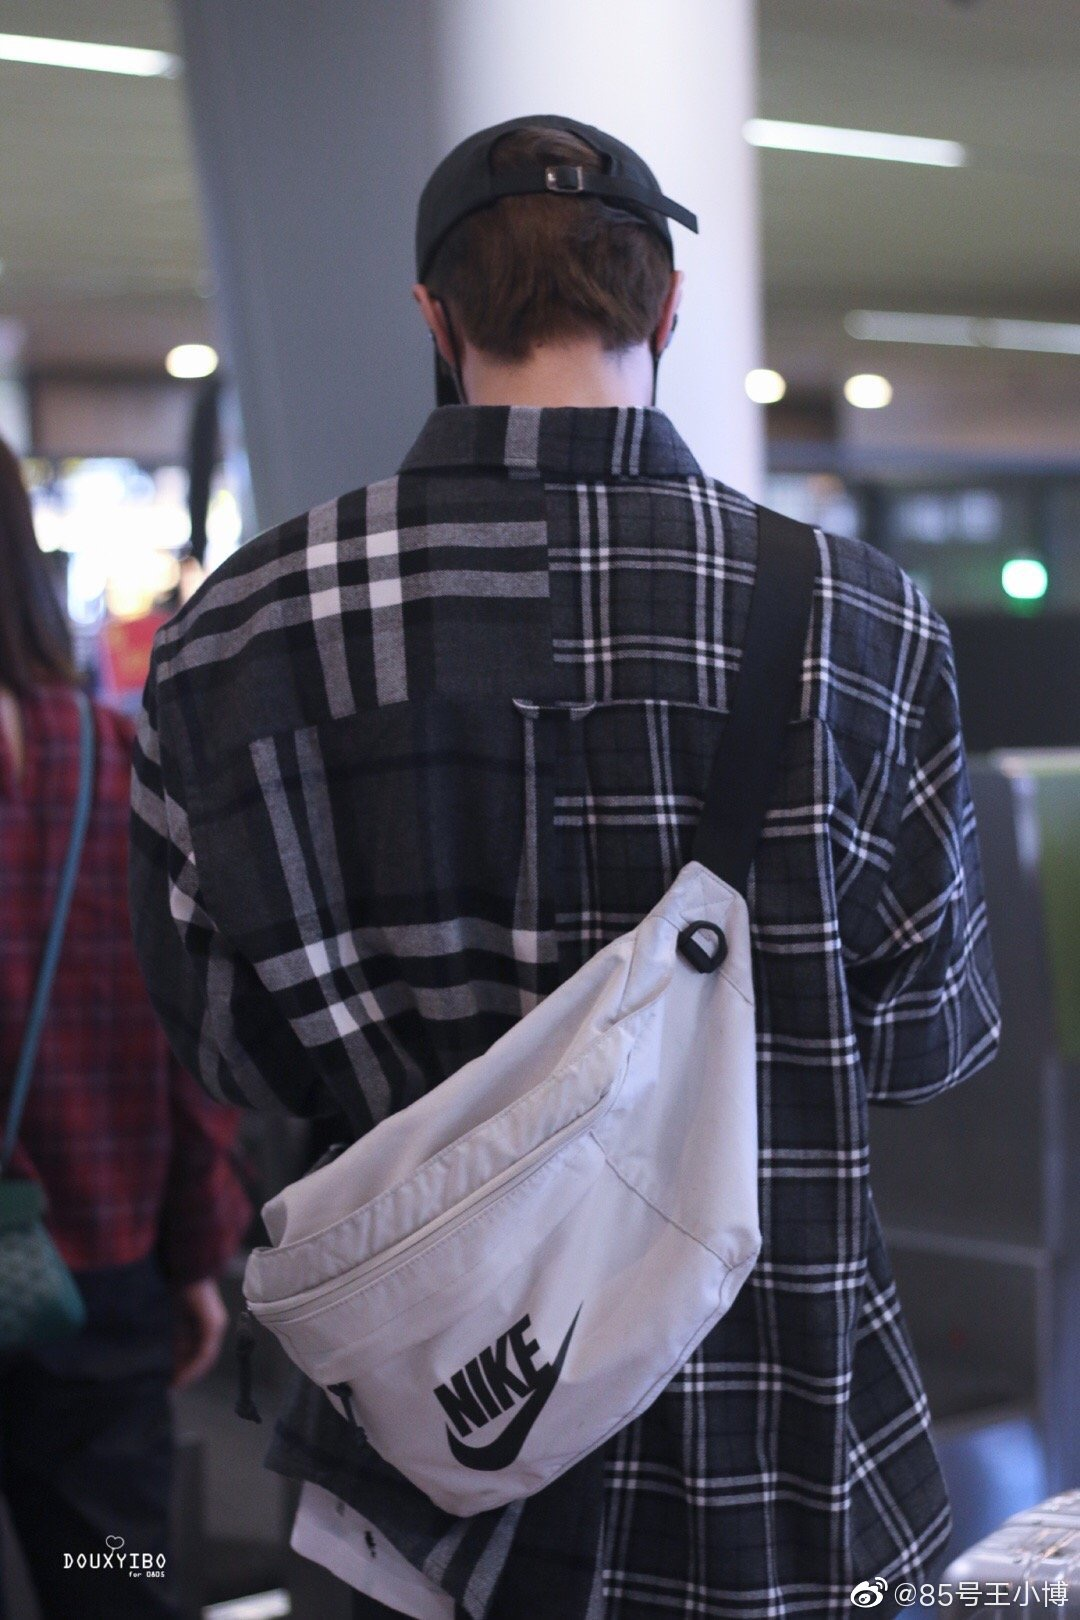bag: (234, 875, 796, 1515)
people: (141, 87, 984, 1620)
